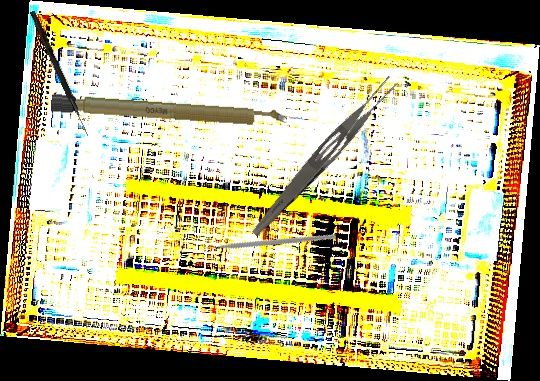Chopper: (196, 171, 337, 306)
Dressing Forceps: (248, 71, 402, 244)
Hook Surgical: (28, 10, 92, 137)
Scalpel Handle: (50, 93, 288, 130)
